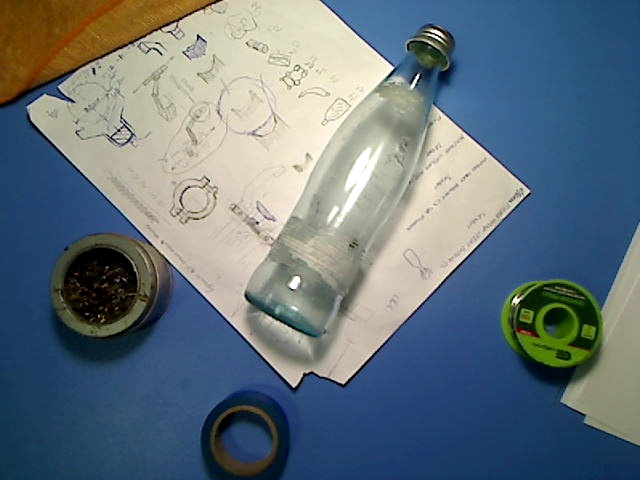bottle: (238, 21, 458, 338)
